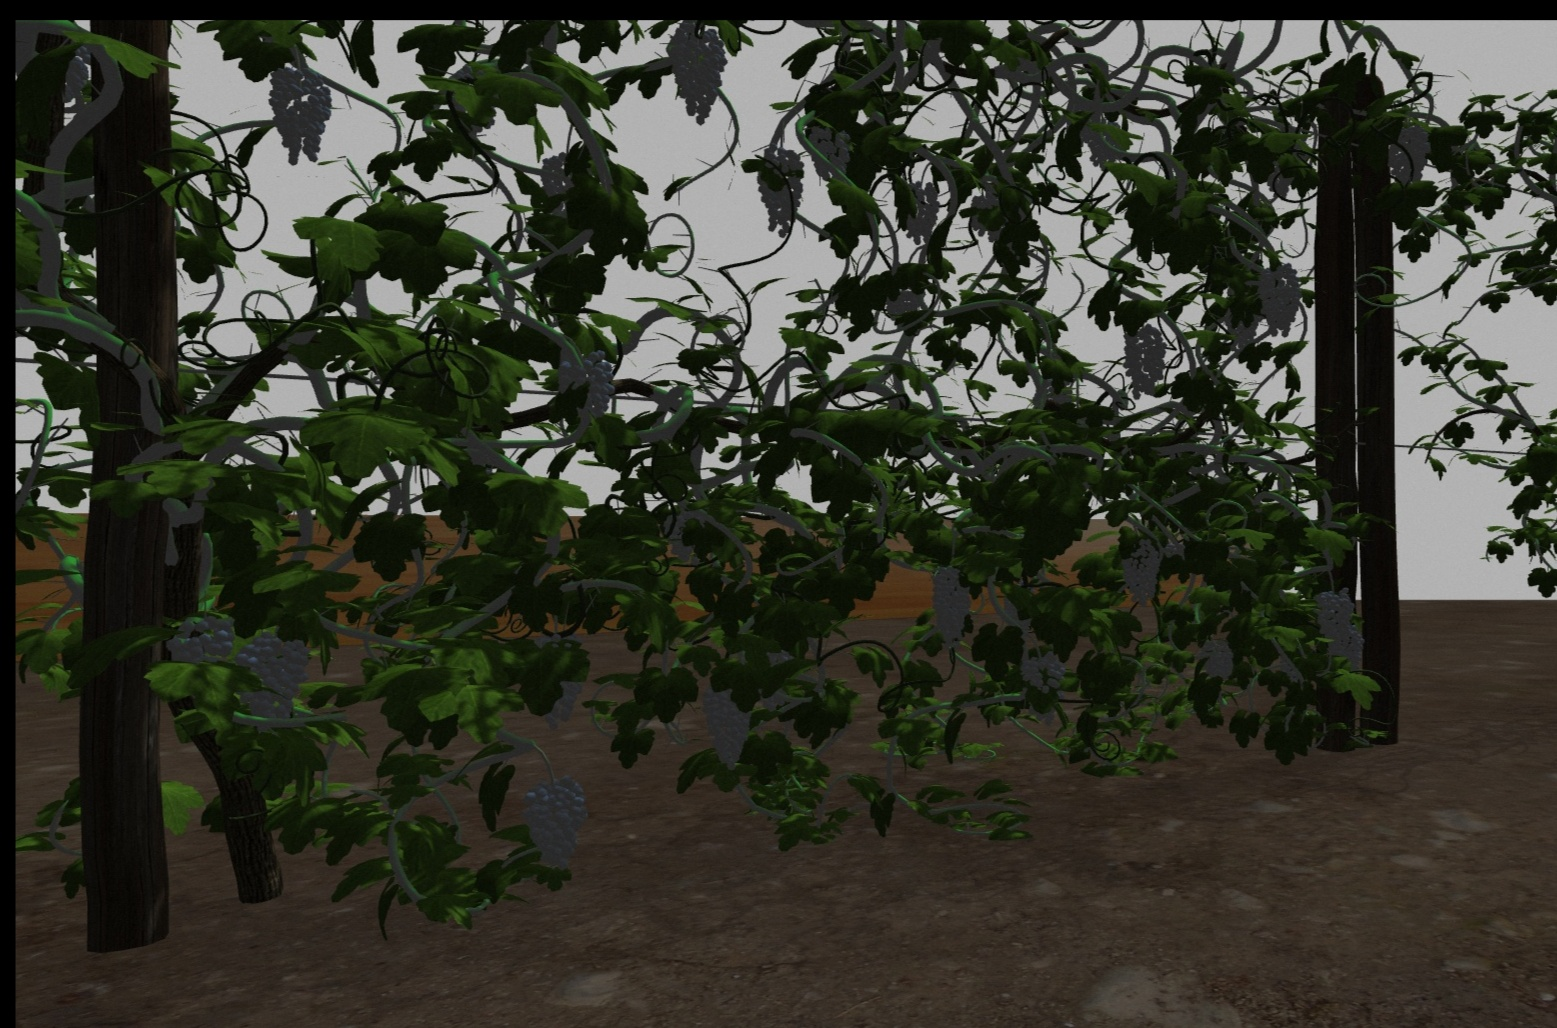grape: (235, 634, 307, 724), (268, 69, 330, 169), (665, 23, 724, 128), (524, 774, 587, 867), (698, 686, 754, 769), (757, 147, 805, 237), (927, 564, 974, 647), (556, 351, 615, 416), (1118, 321, 1169, 392), (165, 615, 233, 669), (1384, 118, 1434, 189), (1261, 264, 1301, 338), (1120, 538, 1162, 605), (898, 184, 942, 243), (808, 124, 853, 179), (1081, 115, 1121, 172), (1018, 646, 1066, 692), (1318, 590, 1350, 651), (1199, 637, 1233, 683), (1345, 631, 1364, 673)
